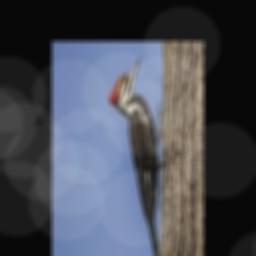Woodpecker: (108, 57, 163, 256)
